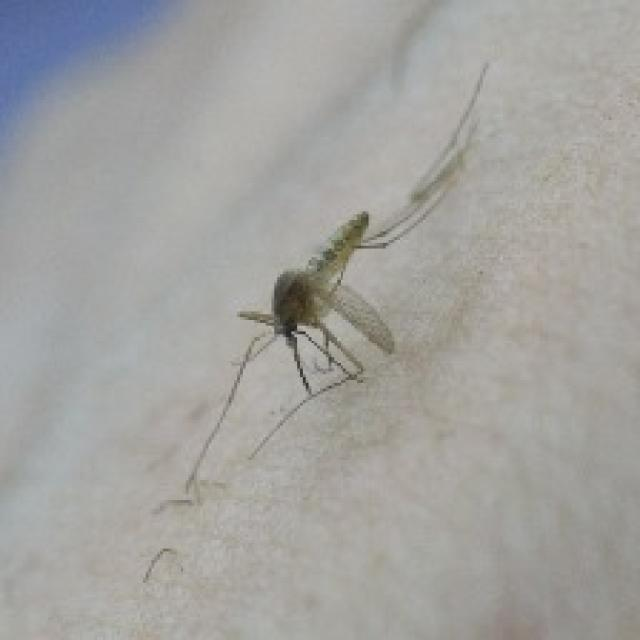culex: (168, 57, 492, 506)
